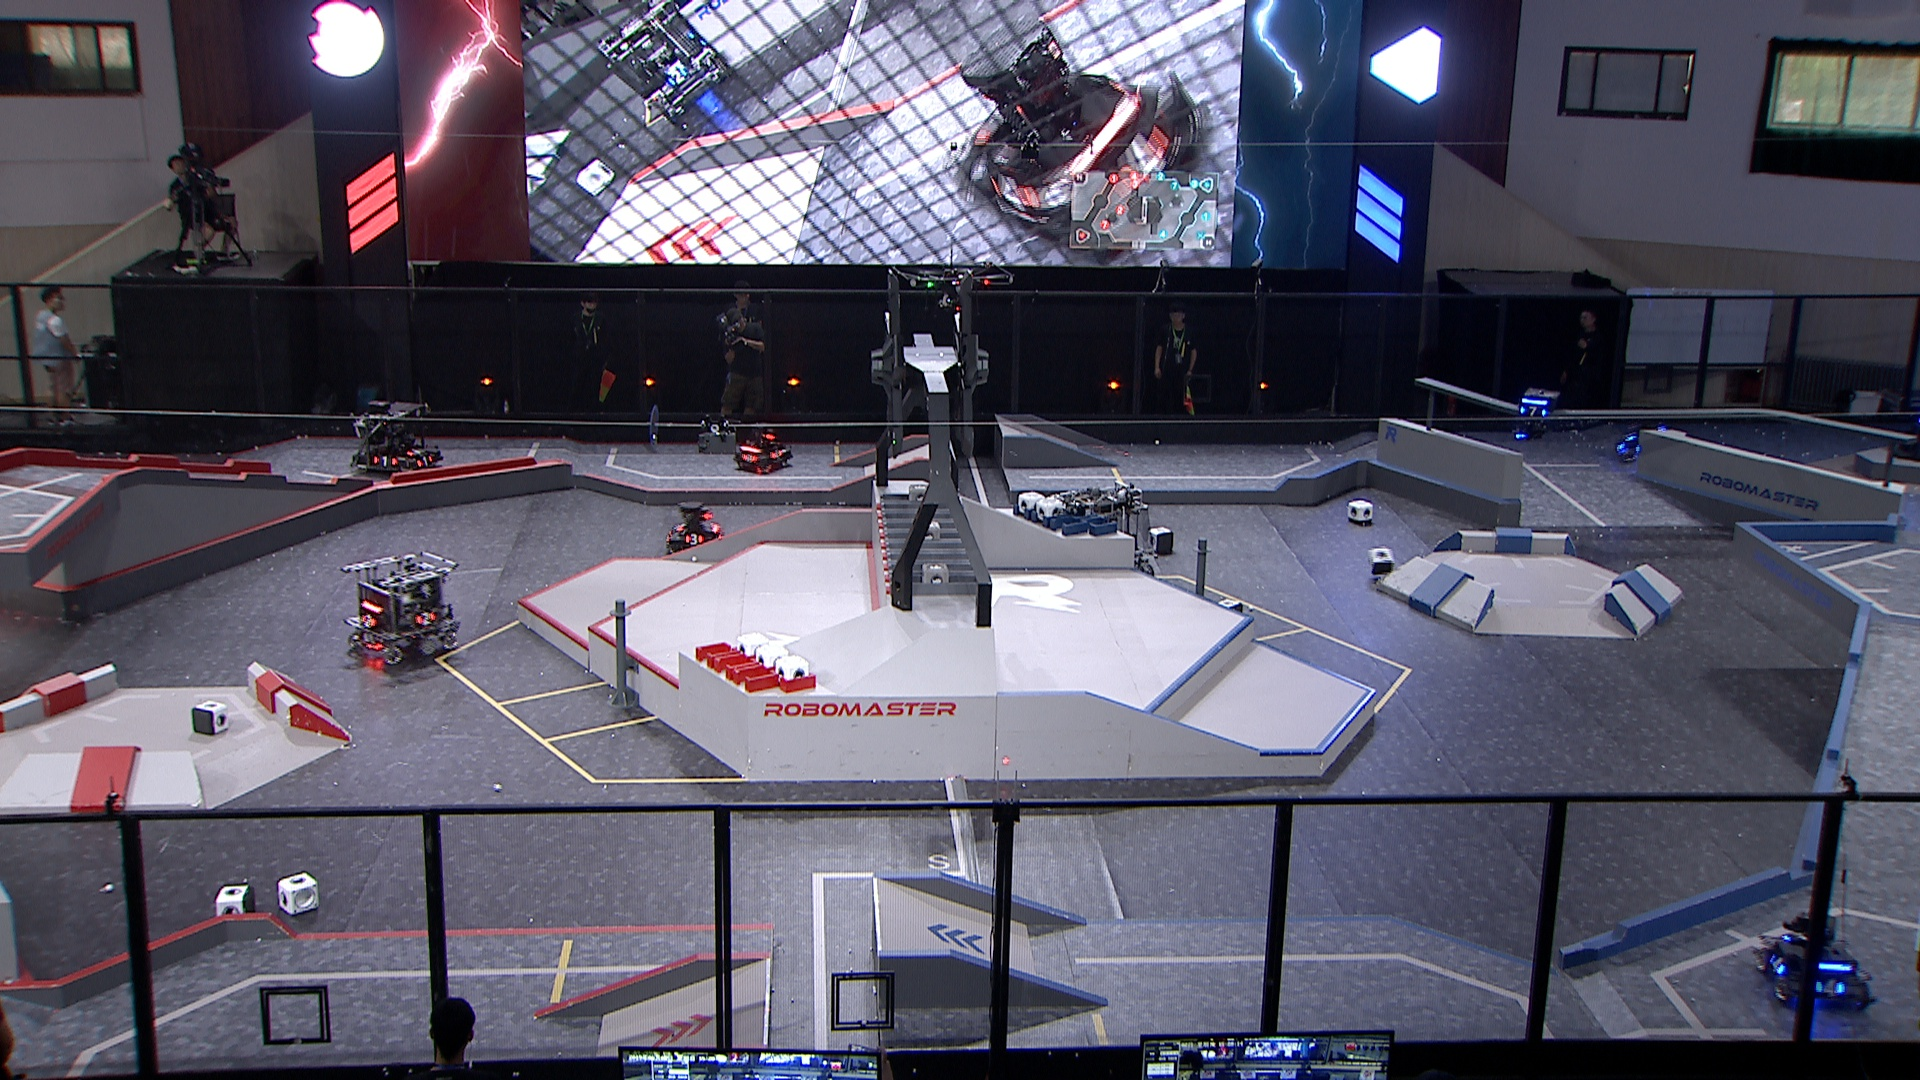armor: (1809, 973, 1846, 1002), (1764, 948, 1789, 978), (371, 454, 401, 471), (1518, 404, 1549, 419), (413, 611, 436, 628), (411, 454, 436, 469), (356, 613, 377, 632), (404, 443, 427, 458), (683, 531, 704, 547), (738, 450, 756, 465), (767, 448, 787, 462)
car: (334, 549, 462, 670), (1755, 907, 1880, 1019), (1050, 487, 1159, 595), (348, 398, 443, 475), (665, 495, 731, 555), (733, 418, 795, 476), (1615, 404, 1675, 462)
ignore: (940, 15, 1205, 247), (599, 0, 737, 127)
watcher: (1510, 386, 1563, 446)
